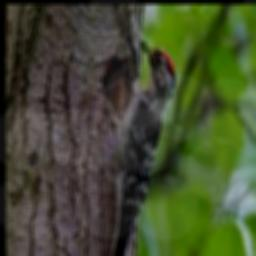Woodpecker: (102, 38, 175, 256)
